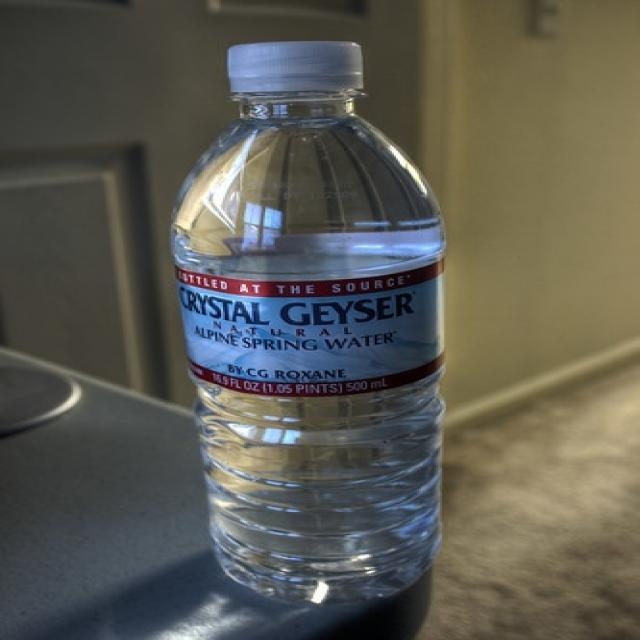plastic_bottle: (170, 41, 446, 604)
